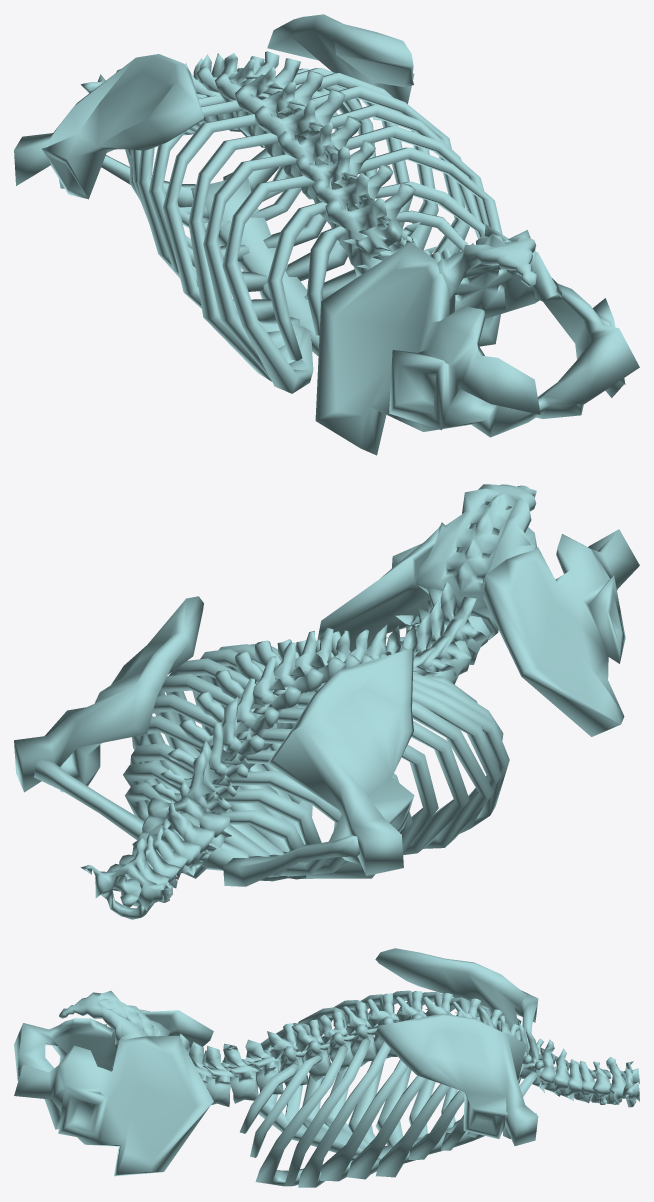
File: skelly_axial_skeleton.fbx
The picture shows the model from 3 angles, top to bottom: view 1: azimuth 30°, elevation 25°; view 2: azimuth 150°, elevation 25°; view 3: azimuth 270°, elevation 25°; orthographic projection. The views are drawn at different scales.
Parts seen in each view (by area): view 1: skelly_axial_skeleton; view 2: skelly_axial_skeleton; view 3: skelly_axial_skeleton.
Boxes of the visible parts, bbox=[...] form: skelly_axial_skeleton: bbox=[14, 14, 639, 455]; skelly_axial_skeleton: bbox=[14, 484, 639, 919]; skelly_axial_skeleton: bbox=[14, 948, 639, 1187].
Size of the model in its own units: 38.91 by 25.14 by 77.15.
